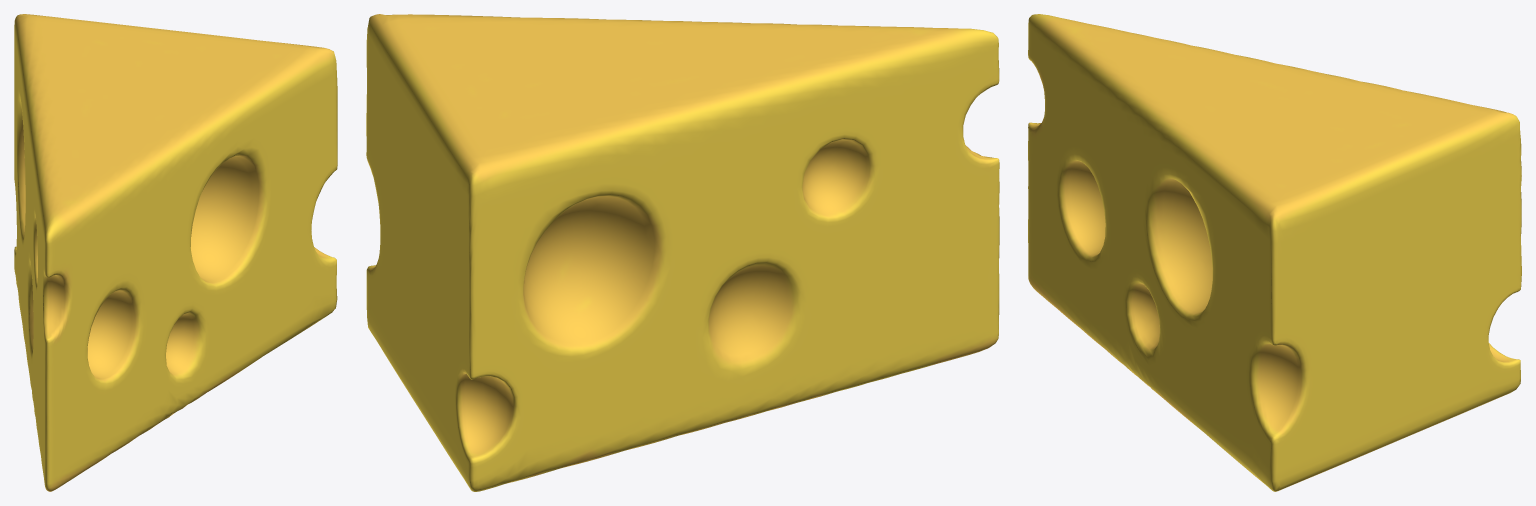
Rendered from chee.gltf.
The picture shows the model from 3 angles, left to right: view 1: azimuth 30°, elevation 25°; view 2: azimuth 150°, elevation 25°; view 3: azimuth 270°, elevation 25°; orthographic projection. The views are drawn at different scales.
Parts seen in each view (by area): view 1: low; view 2: low; view 3: low.
Part boxes in pixels (x1,y1,x2,y2): low: (14,14,337,491); low: (366,14,999,491); low: (1028,14,1521,491).
Size of the model in its own units: 4.55 by 2.88 by 4.55.
